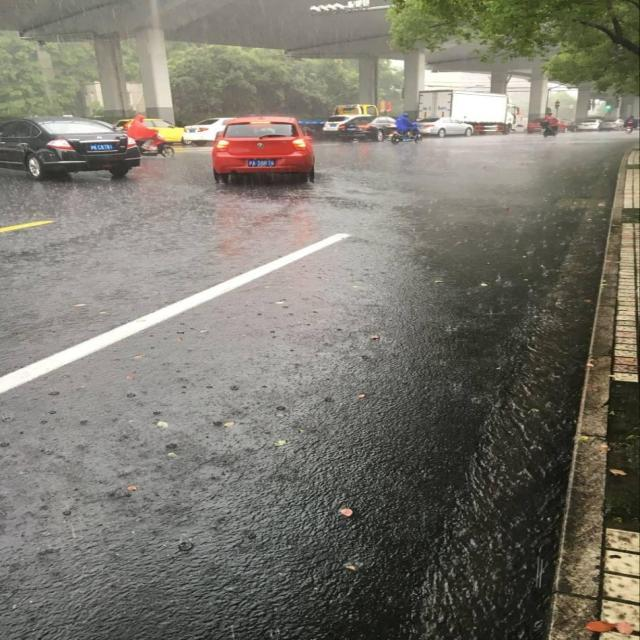car: (0, 116, 139, 177), (208, 114, 320, 183), (420, 89, 518, 133), (336, 111, 404, 138), (417, 116, 471, 135)
